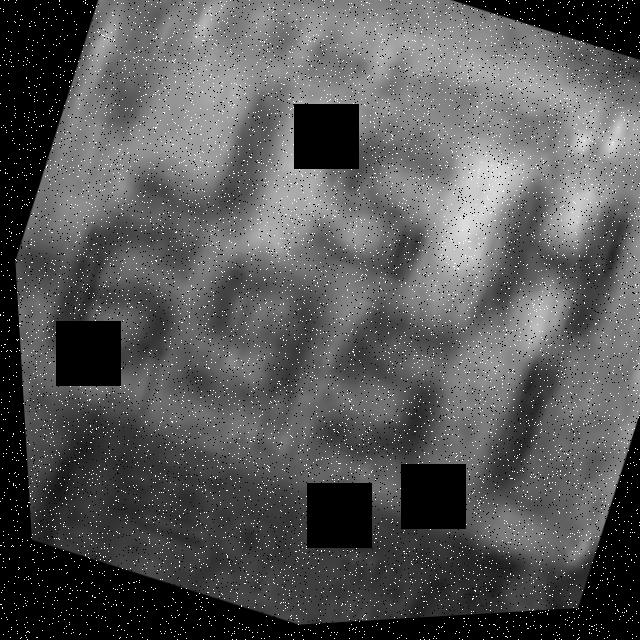5: (275, 274, 501, 525)
6: (8, 165, 225, 419)
9: (134, 212, 367, 460)
B: (429, 131, 640, 396)
J: (96, 27, 320, 268)
S: (261, 93, 487, 332)
